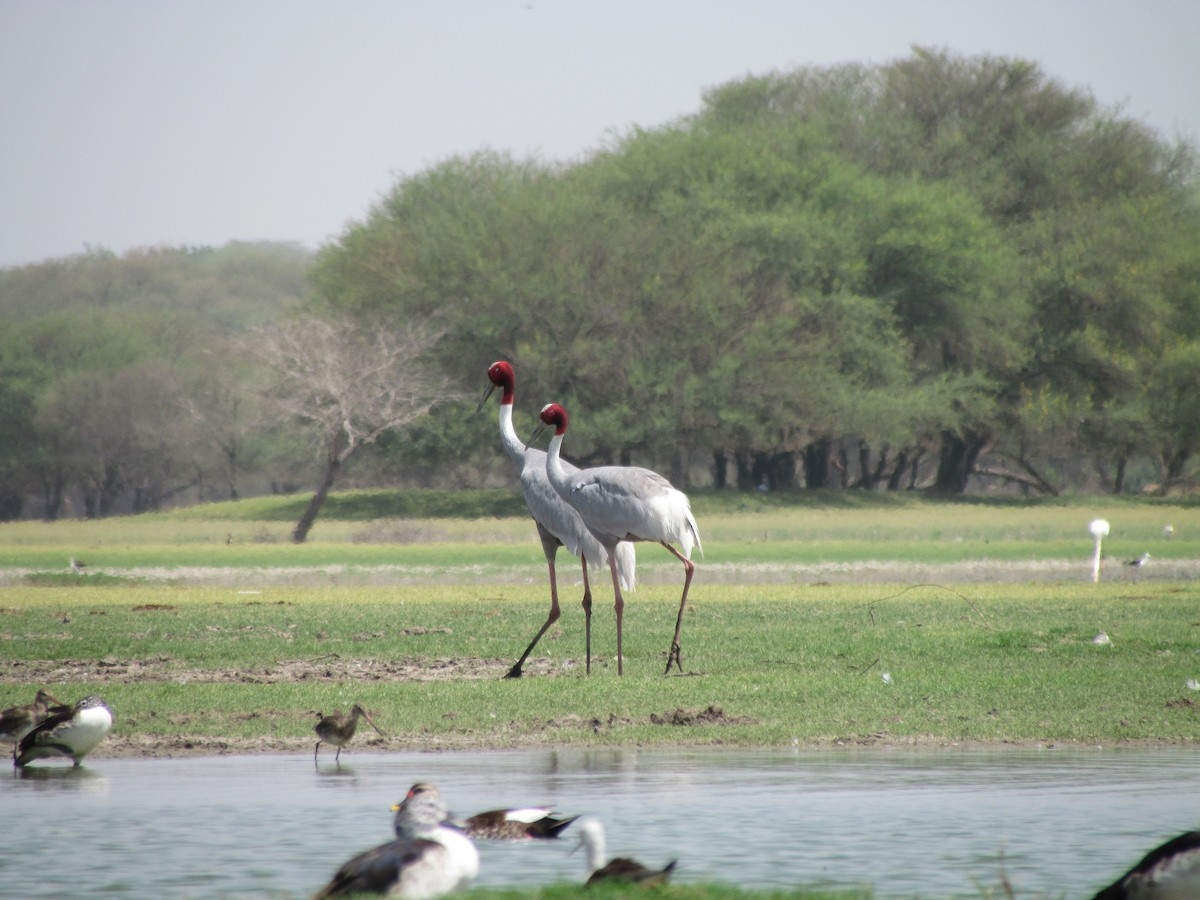crane: (533, 399, 723, 696), (474, 347, 537, 486)
